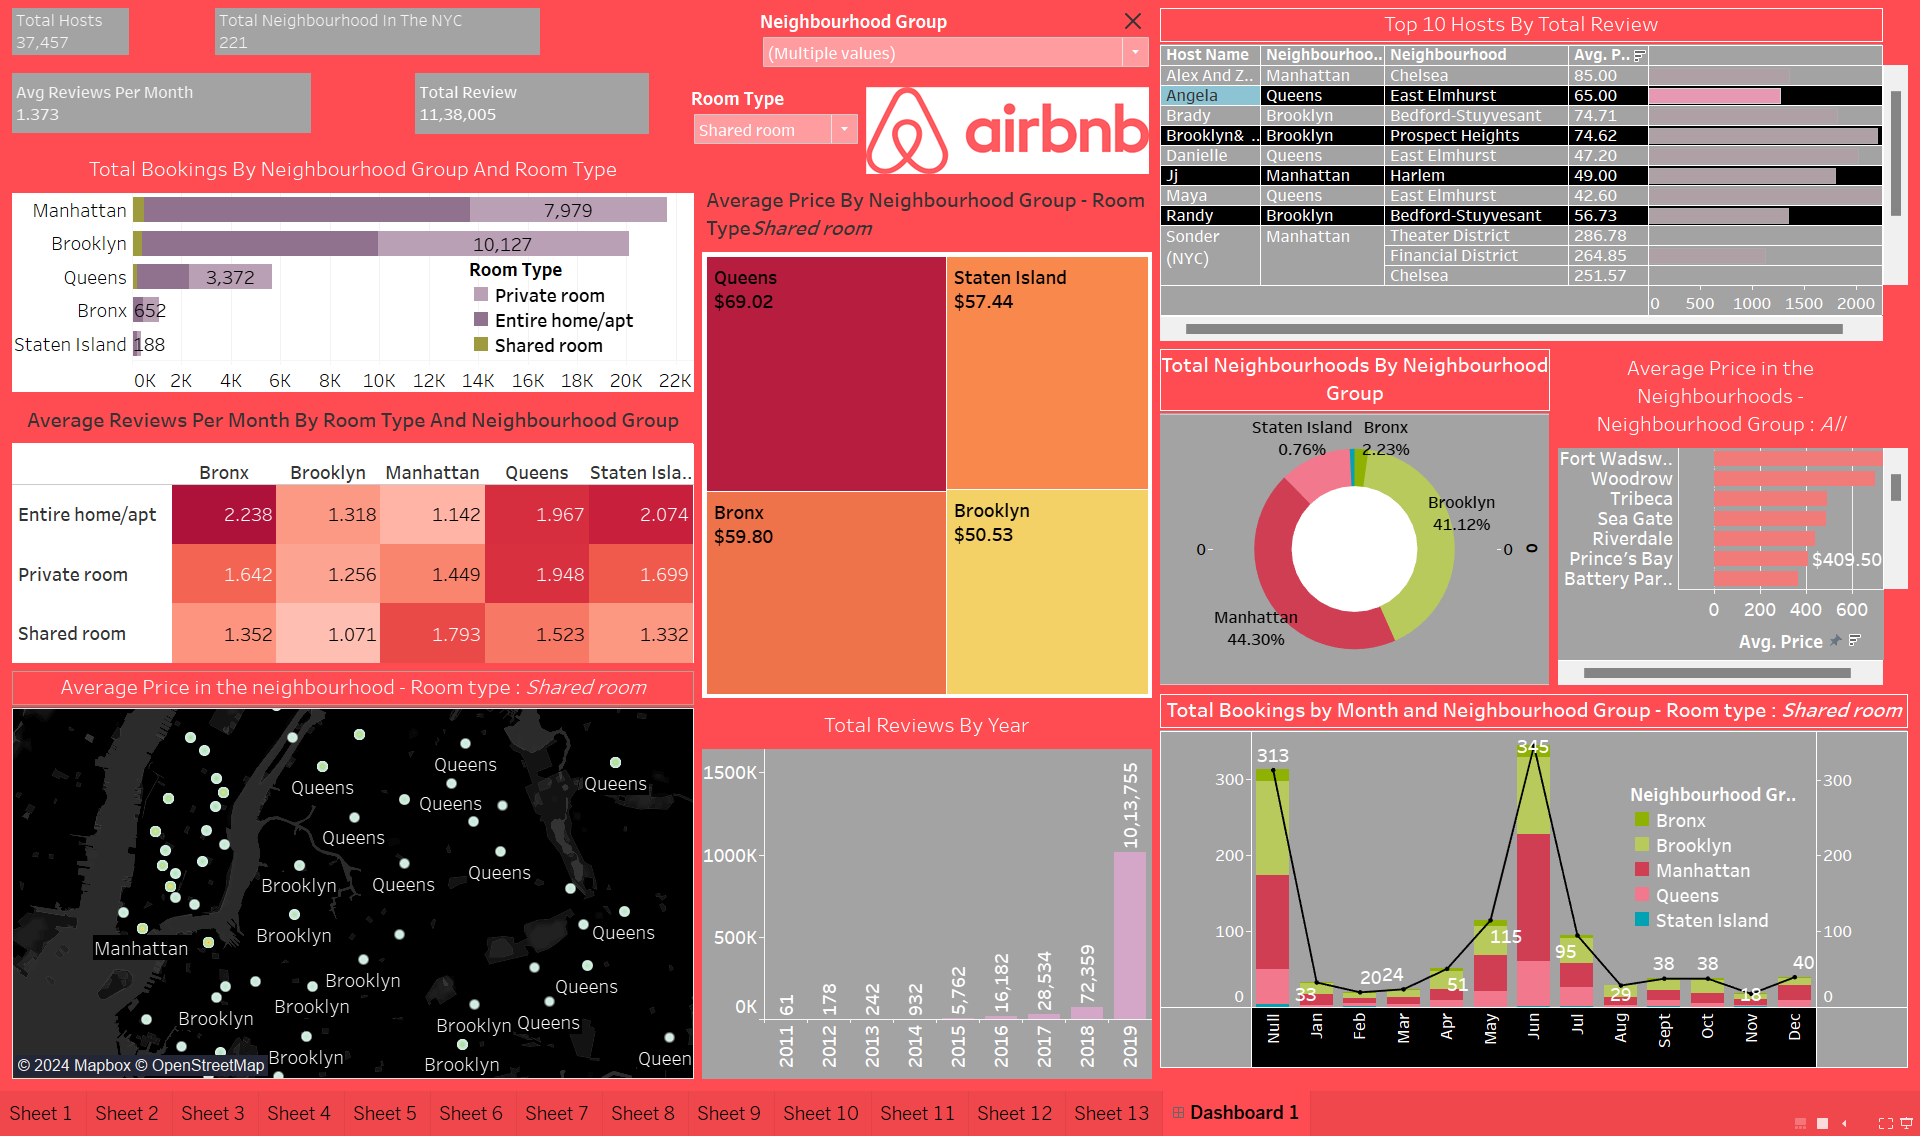

The dashboard page shown, as its layout file describes it:
{"tool":"tableau","page":{"name":"Dashboard 1","canvas":[1000,1000],"units":"permille","ordinal":0},"visuals":[{"type":"worksheet","title":"Sheet 10","mark":"Automatic","box":[4.2,8,105.7,59]},{"type":"worksheet","title":"Sheet 11","mark":"Automatic","box":[109.9,8,253.4,59]},{"type":"filter","title":"Sheet 8","param":"[federated.0puh5pa0ib2ldr1eop2651wh2pc6].[none:neighbourhood_group:nk]","box":[393.6,8,208.4,157.8]},{"type":"worksheet","title":"Sheet 4","mark":"Automatic","rows":["host_name","neighbourhood_group","neighbourhood","price"],"cols":["number_of_reviews"],"box":[602,8,393.8,311.3]},{"type":"dashboard-object","box":[583.7,11,12.6,24]},{"type":"worksheet","title":"Sheet 12","mark":"Automatic","box":[4.2,67,209.7,71]},{"type":"worksheet","title":"Sheet 13","mark":"Automatic","box":[213.9,67,149.5,71]},{"type":"filter","title":"Sheet 2","param":"[federated.0puh5pa0ib2ldr1eop2651wh2pc6].[none:room_type:nk]","box":[360,81,88.4,70]},{"type":"image","param":"C:/Users/PRIYANSHU DUPARE/Downloads/download.png","box":[451.1,83,147.4,80]},{"type":"worksheet","title":"Sheet 5","mark":"Automatic","rows":["neighbourhood_group"],"cols":["name"],"box":[4.2,138,359.2,228]},{"type":"worksheet","title":"Sheet 7","mark":"Automatic","box":[363.4,165.8,238.6,478.4]},{"type":"legend","title":"Sheet 5","param":"[federated.0puh5pa0ib2ldr1eop2651wh2pc6].[none:room_type:nk]","box":[244.2,237,106.3,116]},{"type":"worksheet","title":"Sheet 3","mark":"Pie","rows":["Calculation_9090234415352844289","Calculation_9090234415352844289"],"box":[602,319.3,207.2,314.2]},{"type":"worksheet","title":"Sheet 8","mark":"Automatic","rows":["neighbourhood"],"cols":["price"],"box":[809.2,319.3,186.6,314.2]},{"type":"worksheet","title":"Sheet 9","mark":"Square","rows":["room_type"],"cols":["neighbourhood_group"],"box":[4.2,366,359.2,246.7]},{"type":"worksheet","title":"Sheet 1","mark":"Heatmap","rows":["latitude"],"cols":["longitude"],"box":[4.2,612.7,359.2,379.3]},{"type":"worksheet","title":"Sheet 2","mark":"Bar","rows":["name","name"],"cols":["last_review"],"box":[602,633.5,393.8,358.5]},{"type":"worksheet","title":"Sheet 6","mark":"Bar","rows":["number_of_reviews"],"cols":["last_review"],"box":[363.4,644.3,238.6,347.7]},{"type":"legend","title":"Sheet 2","param":"[federated.0puh5pa0ib2ldr1eop2651wh2pc6].[none:neighbourhood_group:nk]","box":[849,716.7,90.5,175]}]}

Visuals, with their boxes on the dashboard's canvas, which has no fixed pixel size, in thousandths of its width and height (x1, y1, x2, y2). These are canvas units, not pixel positions in the 1920x1136 screenshot, which may show the page scaled, cropped or inside an application window:
"Sheet 10" worksheet: (4, 8, 110, 67)
"Sheet 11" worksheet: (110, 8, 363, 67)
"Sheet 8" filter: (394, 8, 602, 166)
"Sheet 4" worksheet: (602, 8, 996, 319)
dashboard-object: (584, 11, 596, 35)
"Sheet 12" worksheet: (4, 67, 214, 138)
"Sheet 13" worksheet: (214, 67, 363, 138)
"Sheet 2" filter: (360, 81, 448, 151)
image: (451, 83, 598, 163)
"Sheet 5" worksheet: (4, 138, 363, 366)
"Sheet 7" worksheet: (363, 166, 602, 644)
"Sheet 5" legend: (244, 237, 350, 353)
"Sheet 3" worksheet (Pie marks): (602, 319, 809, 634)
"Sheet 8" worksheet: (809, 319, 996, 634)
"Sheet 9" worksheet (Square marks): (4, 366, 363, 613)
"Sheet 1" worksheet (Heatmap marks): (4, 613, 363, 992)
"Sheet 2" worksheet (Bar marks): (602, 634, 996, 992)
"Sheet 6" worksheet (Bar marks): (363, 644, 602, 992)
"Sheet 2" legend: (849, 717, 940, 892)
